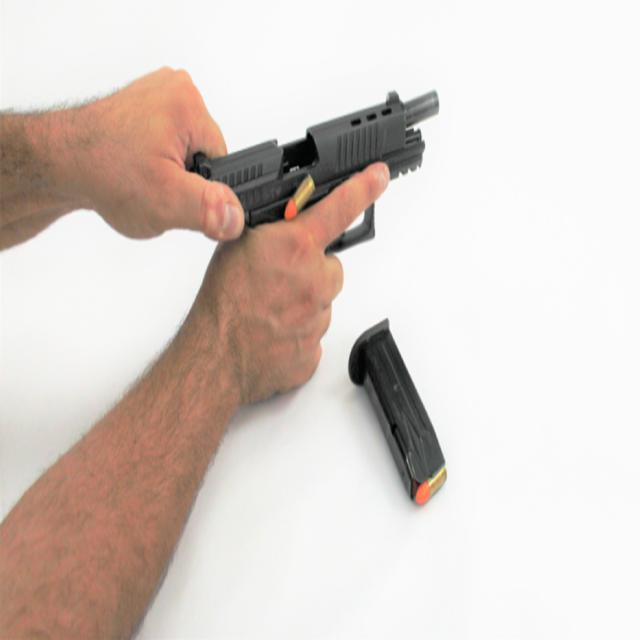HandGun: (193, 91, 440, 253)
